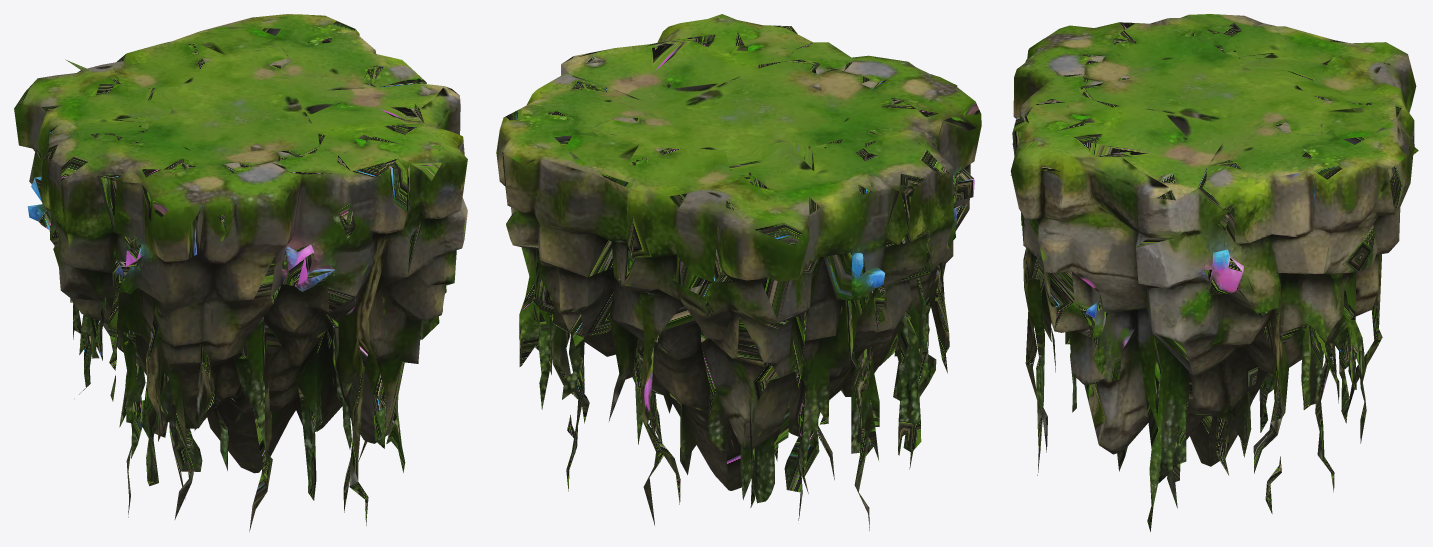
File: stepping-stone-c-CcO5oQdB.glb
3 renders of one model, left to right at view 1: azimuth 30°, elevation 25°; view 2: azimuth 150°, elevation 25°; view 3: azimuth 270°, elevation 25°, orthographic. The views are drawn at different scales.
Parts seen in each view (by area): view 1: geometry_0; view 2: geometry_0; view 3: geometry_0.
Boxes of the visible parts, <box> form: geometry_0: <box>14,14,467,531</box>; geometry_0: <box>496,14,981,530</box>; geometry_0: <box>1010,14,1418,531</box>.
Bounding box in the file's own units: 1.97 × 1.85 × 1.78.
1 material, 1 textured.
